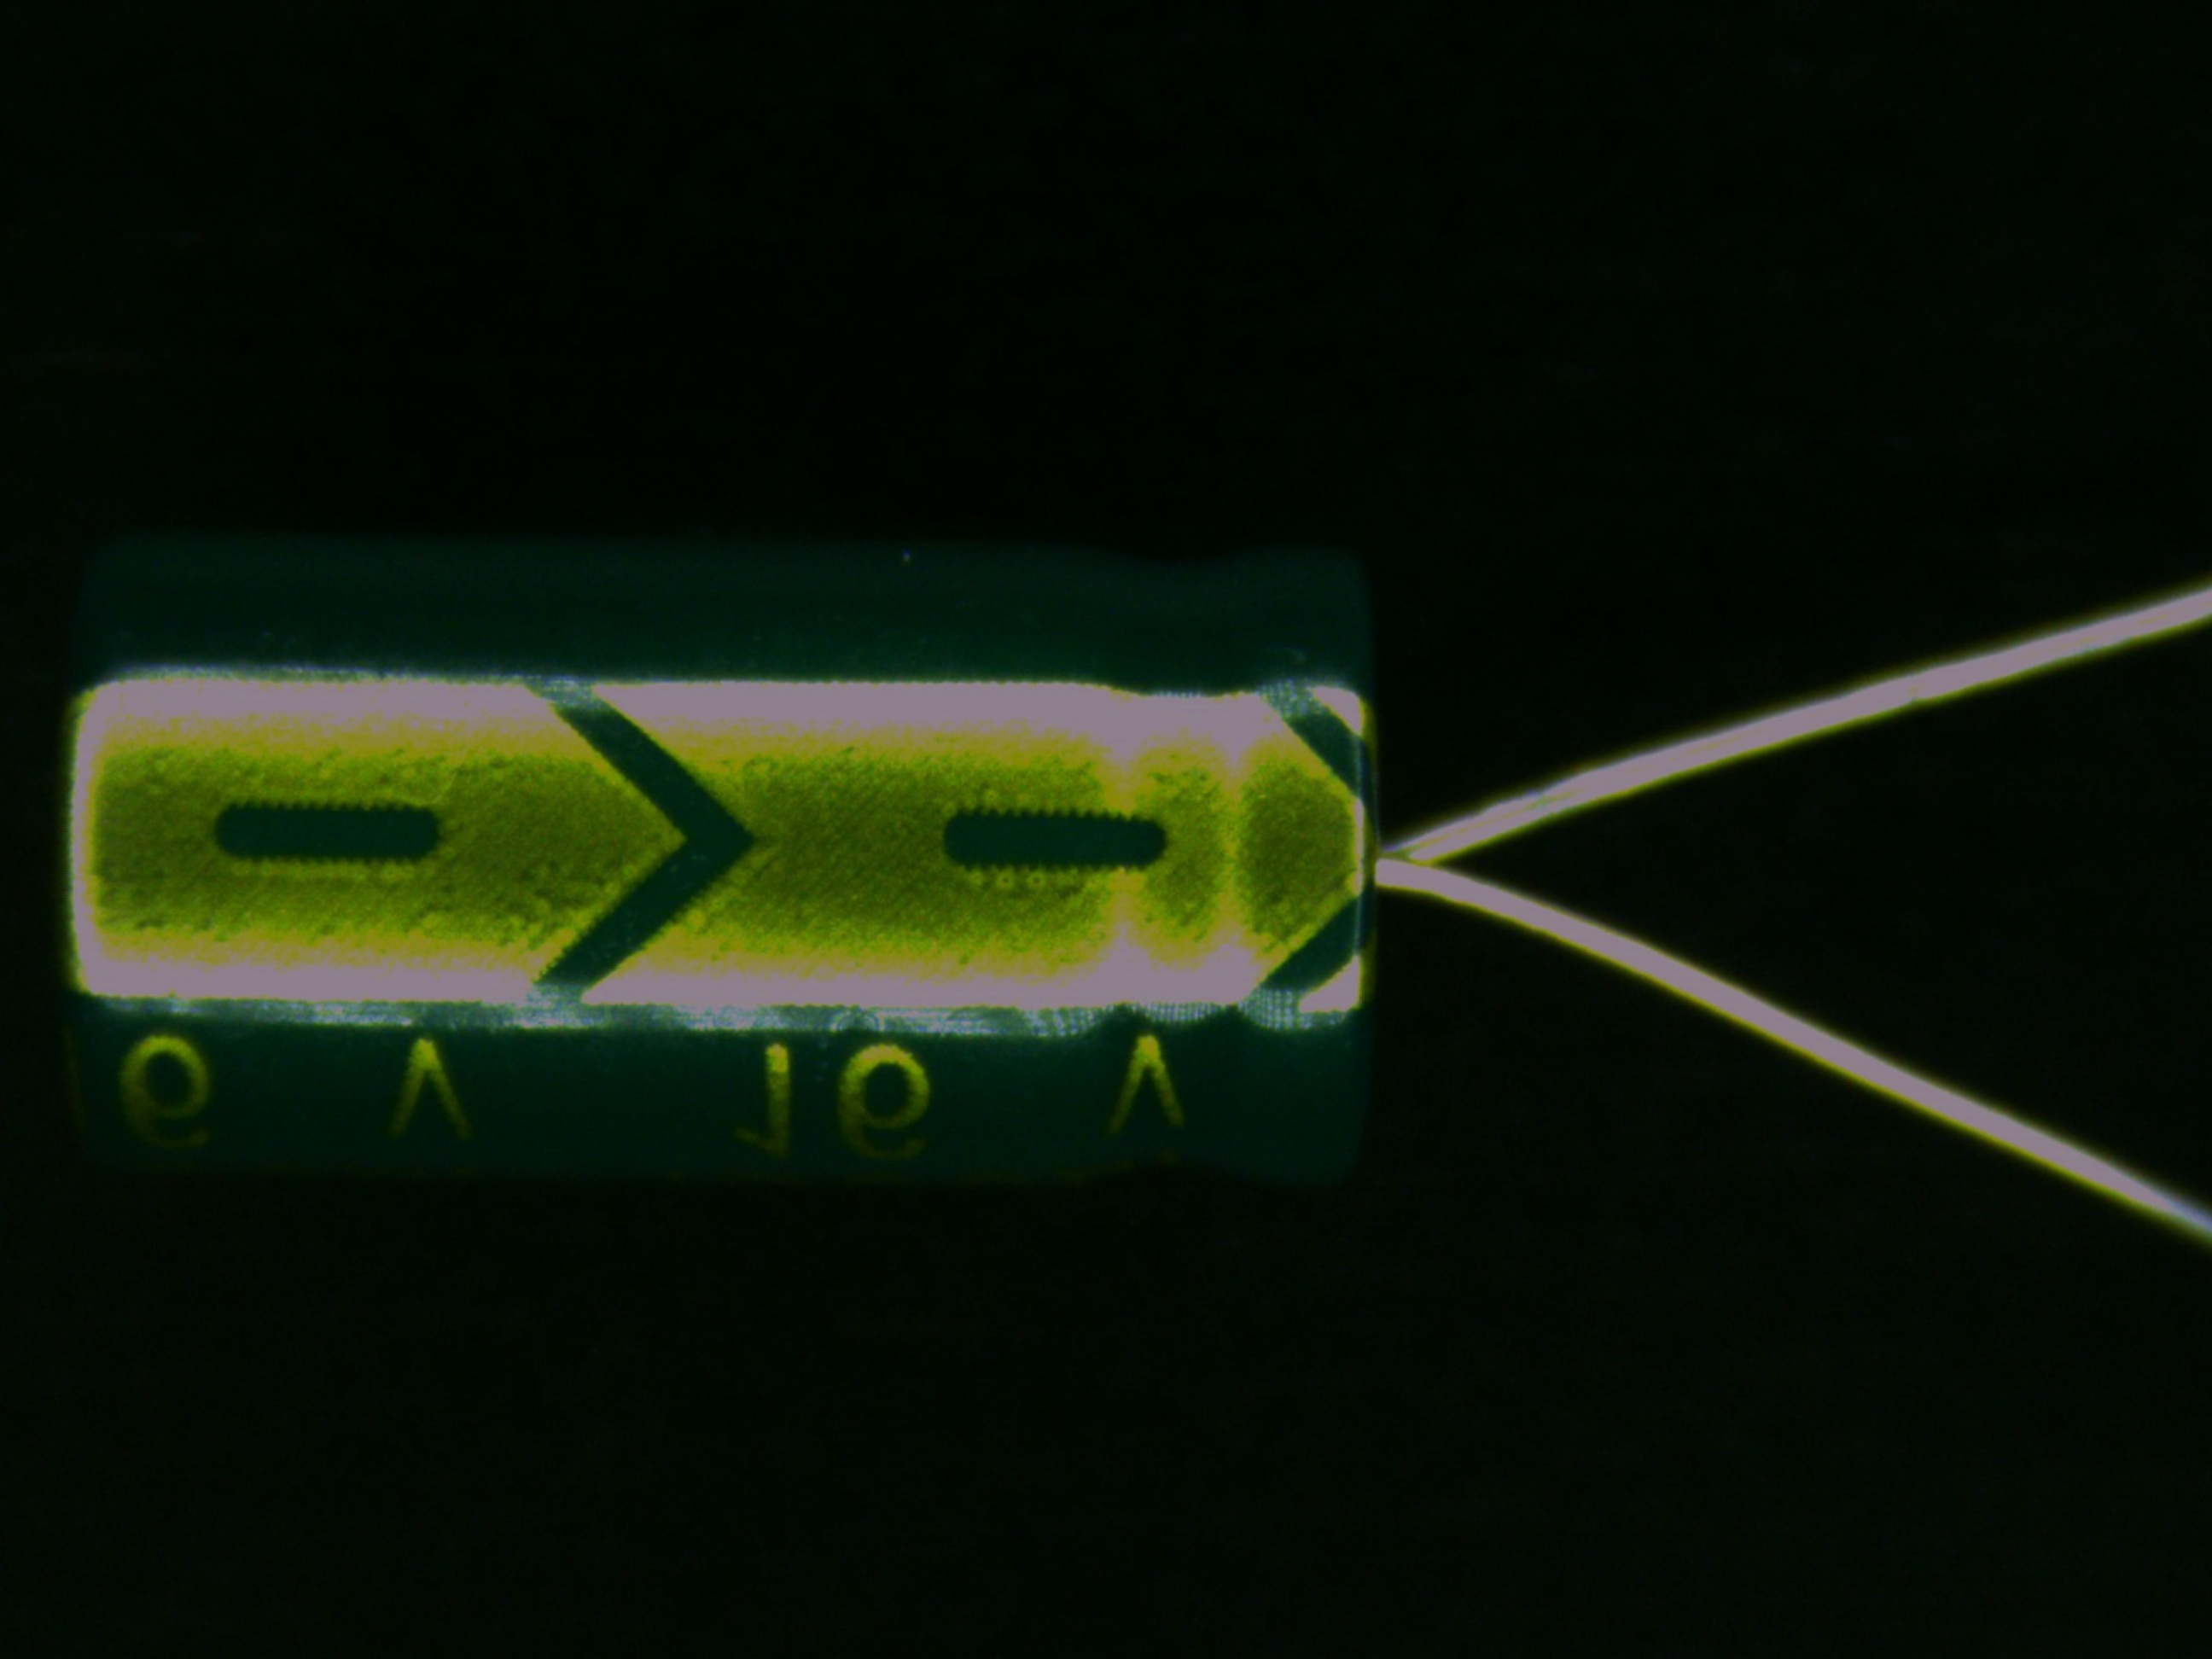c1: (57, 523, 1733, 1197)
